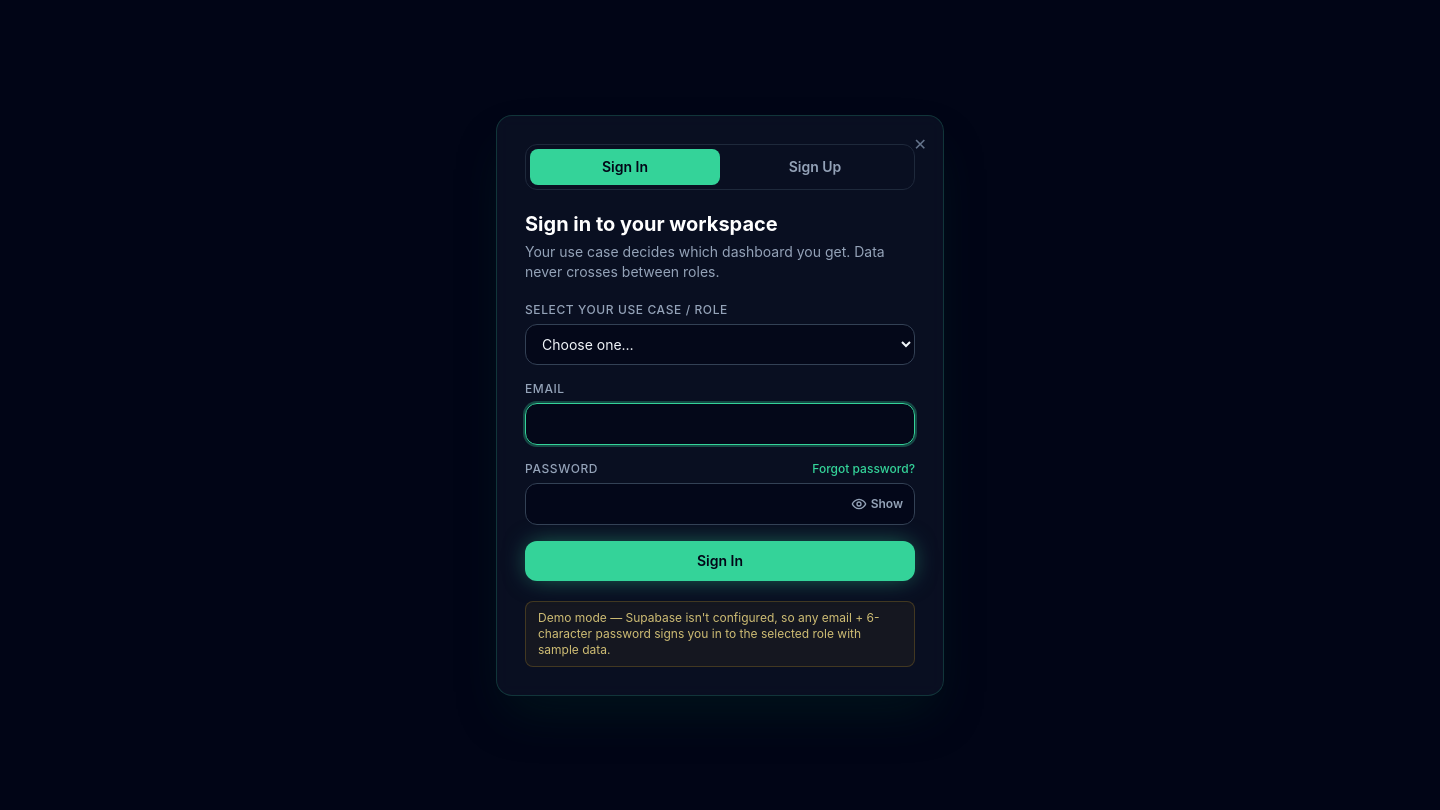
AuthModal › refuses to sign in without a role
This screenshot has width=1440, height=810.
Type "cmo@example.com" into the field labelled "Email". click: (720, 424)
box: [525,402,915,444]
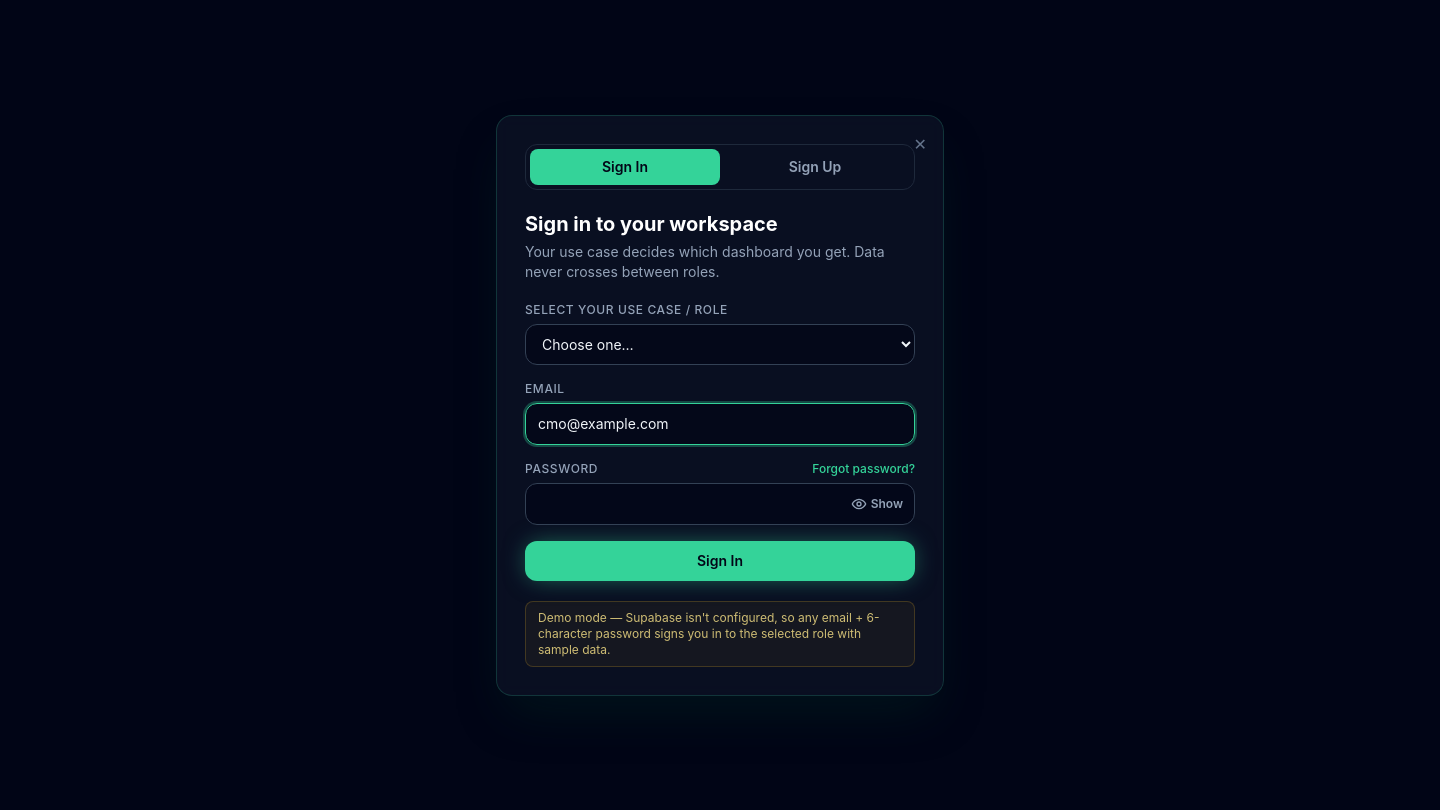
Type "secret123" into the password field labelled "Password". click: (720, 504)
box: [525,482,915,524]
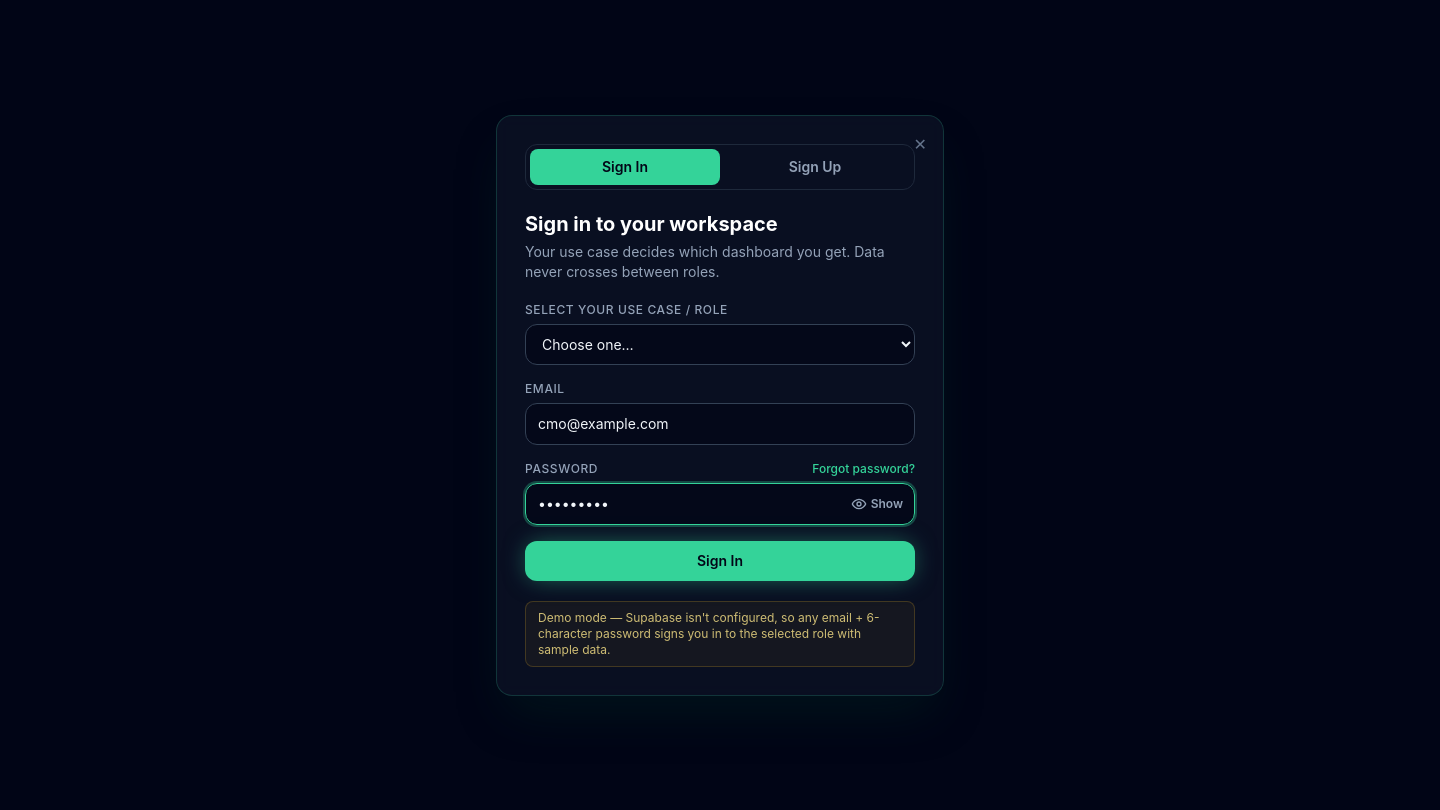
Click the submit button. click: (720, 560)
box: [525,540,915,580]
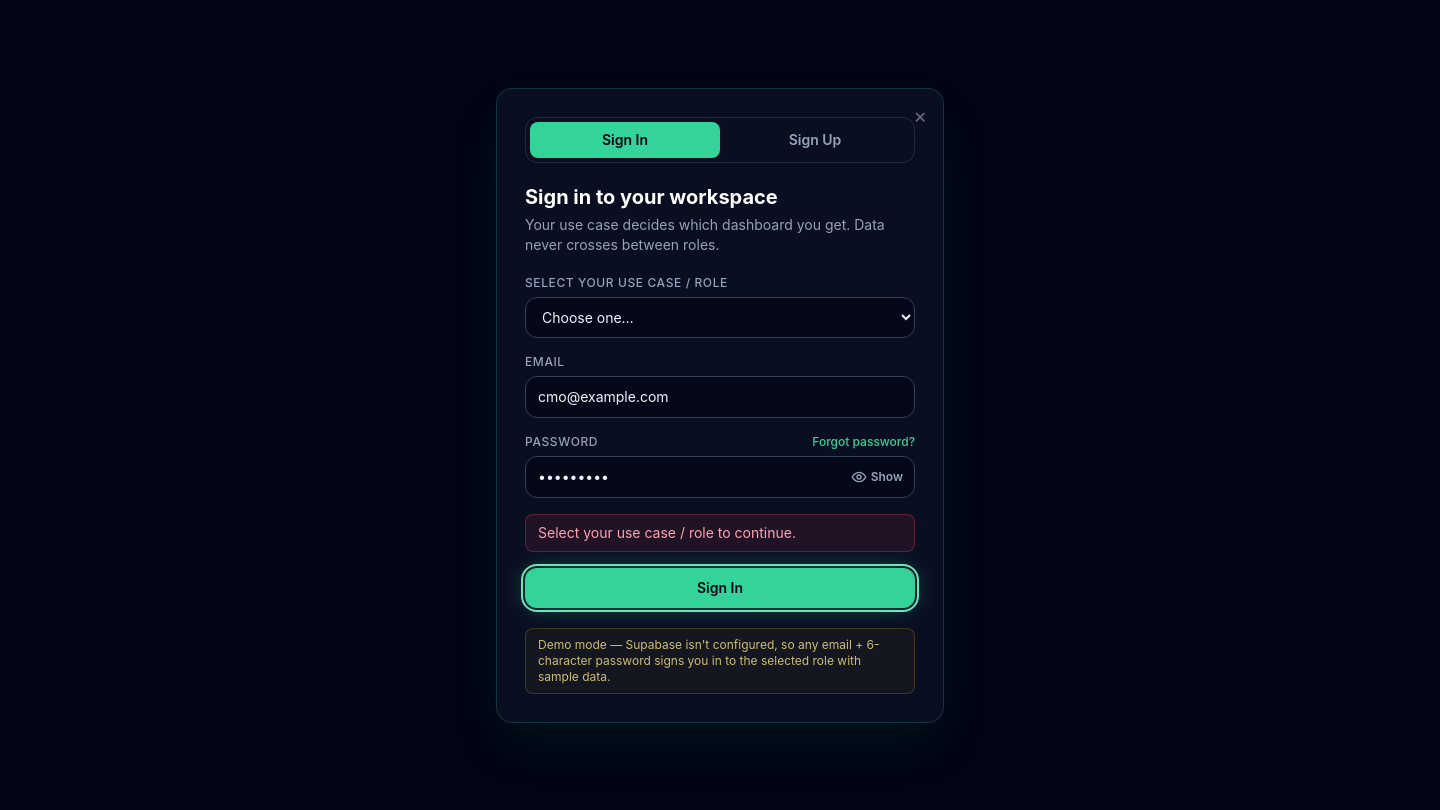
expect the message reads "Select your use case / role to continue.": met, box [538,524,796,540]
